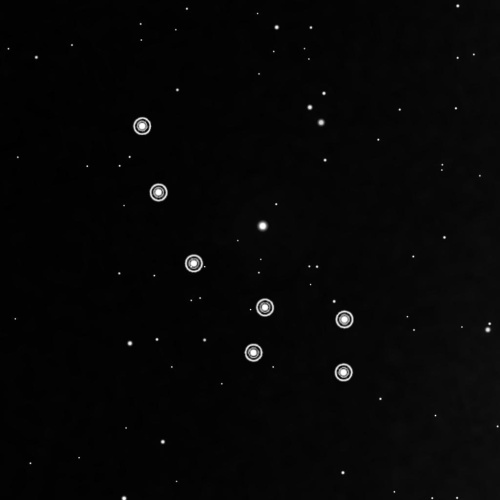ursa_minor: (127, 109, 360, 389)
